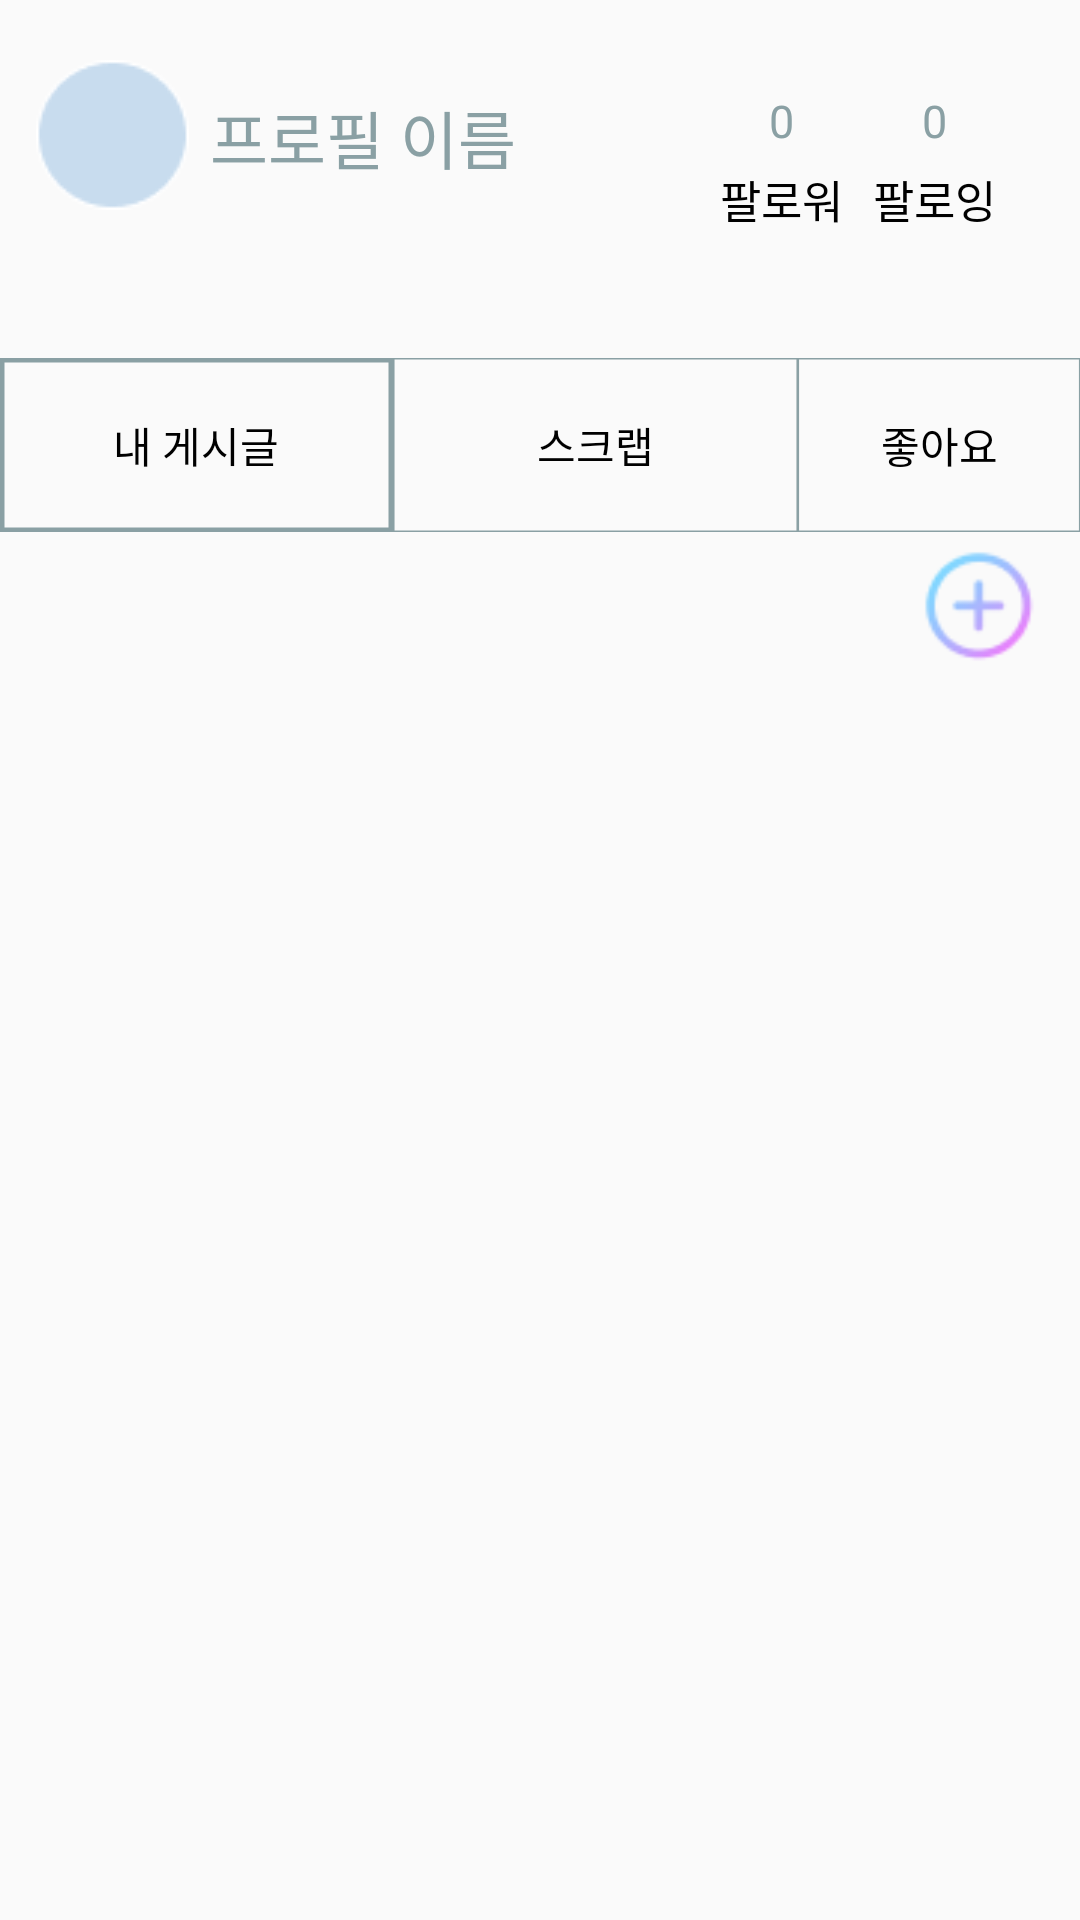

Named icons in this screenshot (1080px x 1920px) and their centers, [x,y]:
post add: [978,605]
